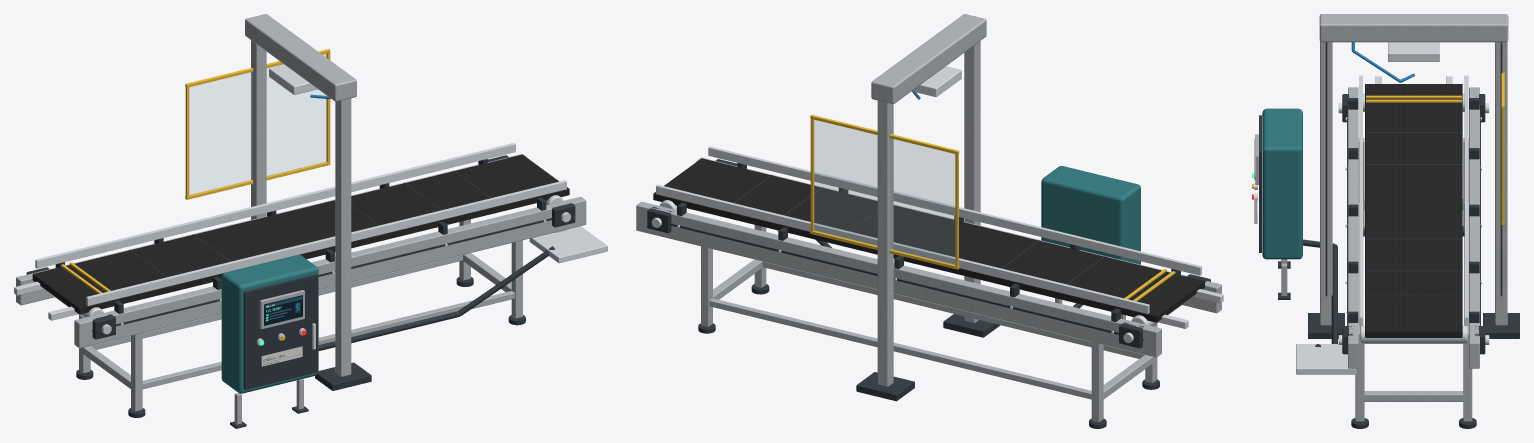
The model's file is CellConveyor.gltf.
The picture shows the model from 3 angles, left to right: view 1: azimuth 30°, elevation 25°; view 2: azimuth 150°, elevation 25°; view 3: azimuth 270°, elevation 25°; orthographic projection. The views are drawn at different scales.
Visible parts, largest first — view 1: Continuous belt, Rear safety panel, Extruded side rail (×2), Guide rail (×2), Gantry column (×2), Cabinet door, PLC cabinet, Gantry upper beam, Lower stretcher (×2), Motor support shelf, Vertical extrusion (×2), Cable harness (×2) (+7 smaller); view 2: Continuous belt, Extruded side rail (×2), Rear safety panel, Guide rail (×2), Gantry column (×2), PLC cabinet, Lower stretcher (×2), Gantry upper beam, Guard edge (×3), Vertical extrusion (×2), Gantry foot (×2), Cross brace (×2) (+2 smaller); view 3: Continuous belt, Gantry column (×2), PLC cabinet, Gantry upper beam, Extruded side rail (×2), Guide rail (×2), Vertical extrusion (×3), Motor support shelf, Gantry foot (×2), Column slot (×2), Cross brace, Head mounting plate (+6 smaller).
Boxes of the visible parts, left/top/right/bottom form: Continuous belt: left=32, top=154, right=569, bottom=314; Rear safety panel: left=189, top=54, right=326, bottom=194; Extruded side rail (×2): left=16, top=154, right=586, bottom=348; Guide rail (×2): left=35, top=143, right=566, bottom=305; Gantry column (×2): left=251, top=40, right=351, bottom=376; Cabinet door: left=243, top=274, right=317, bottom=389; PLC cabinet: left=221, top=255, right=318, bottom=393; Gantry upper beam: left=245, top=14, right=356, bottom=101; Lower stretcher (×2): left=91, top=255, right=514, bottom=389; Motor support shelf: left=529, top=226, right=607, bottom=263; Vertical extrusion (×2): left=131, top=240, right=522, bottom=411; Cable harness (×2): left=318, top=246, right=555, bottom=350; Continuous belt: left=653, top=158, right=1204, bottom=322; Extruded side rail (×2): left=636, top=157, right=1221, bottom=357; Rear safety panel: left=814, top=120, right=954, bottom=264; Guide rail (×2): left=656, top=146, right=1201, bottom=313; Gantry column (×2): left=877, top=41, right=980, bottom=386; PLC cabinet: left=1041, top=166, right=1140, bottom=264; Lower stretcher (×2): left=709, top=261, right=1144, bottom=399; Gantry upper beam: left=871, top=14, right=986, bottom=104; Guard edge (×3): left=810, top=114, right=959, bottom=269; Vertical extrusion (×2): left=701, top=246, right=1103, bottom=422; Gantry foot (×2): left=856, top=314, right=1000, bottom=401; Cross brace (×2): left=713, top=259, right=1154, bottom=399; Continuous belt: left=1365, top=84, right=1462, bottom=337; Gantry column (×2): left=1320, top=42, right=1507, bottom=325; PLC cabinet: left=1262, top=108, right=1302, bottom=259; Gantry upper beam: left=1319, top=14, right=1508, bottom=42; Extruded side rail (×2): left=1348, top=87, right=1479, bottom=368; Guide rail (×2): left=1359, top=75, right=1468, bottom=325; Vertical extrusion (×3): left=1355, top=138, right=1472, bottom=421; Motor support shelf: left=1296, top=344, right=1356, bottom=374; Gantry foot (×2): left=1308, top=313, right=1519, bottom=338; Column slot (×2): left=1325, top=42, right=1502, bottom=296; Cross brace: left=1360, top=391, right=1467, bottom=401; Head mounting plate: left=1388, top=42, right=1439, bottom=61.
Bounding box in the file's own units: 3.7 × 2.03 × 1.59.
12 materials, 4 textured.
